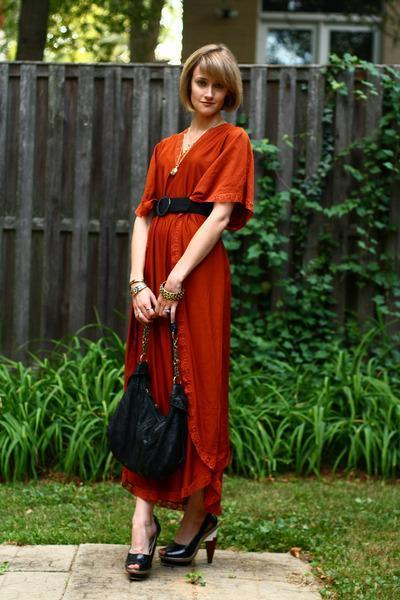bag: (108, 352, 189, 487)
dress: (120, 122, 253, 515)
shoe: (125, 510, 231, 582)
